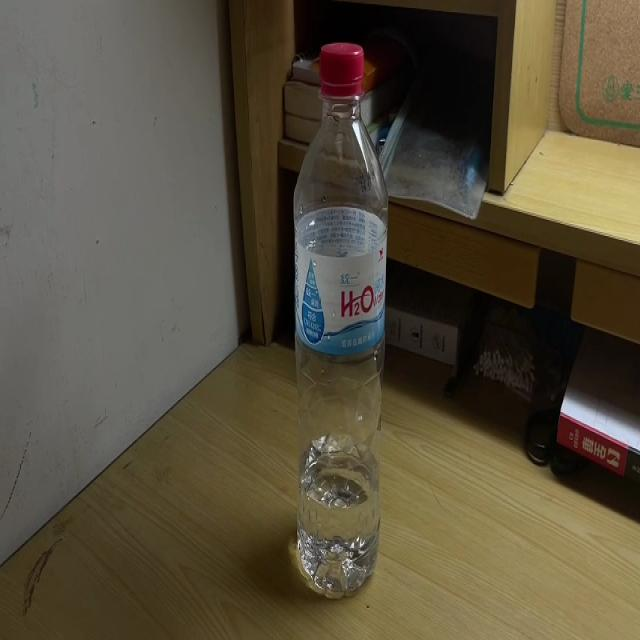Water: (296, 41, 387, 600)
